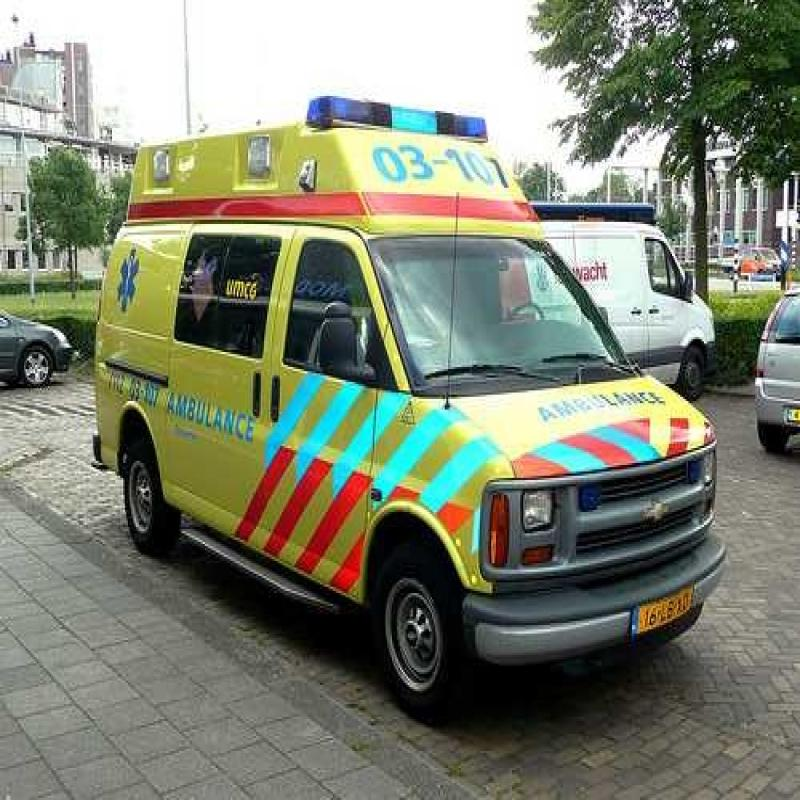AmbulanceSiren: (303, 56, 495, 157)
